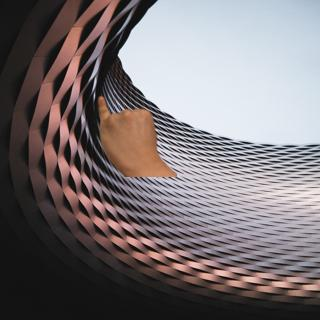FINE: (93, 93, 162, 171)
